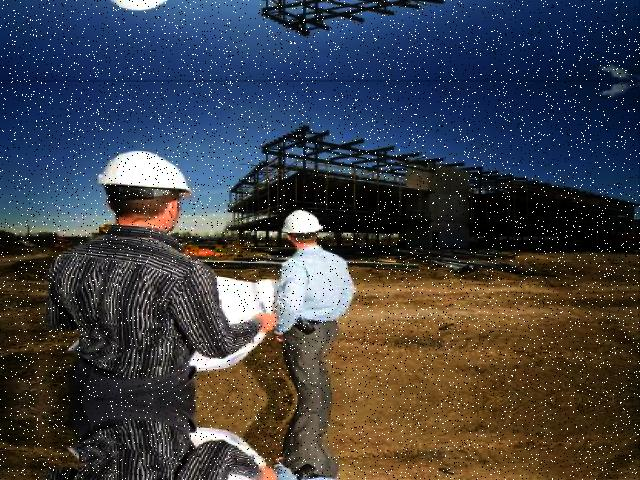Helmet: (95, 144, 202, 208), (280, 204, 329, 248)
